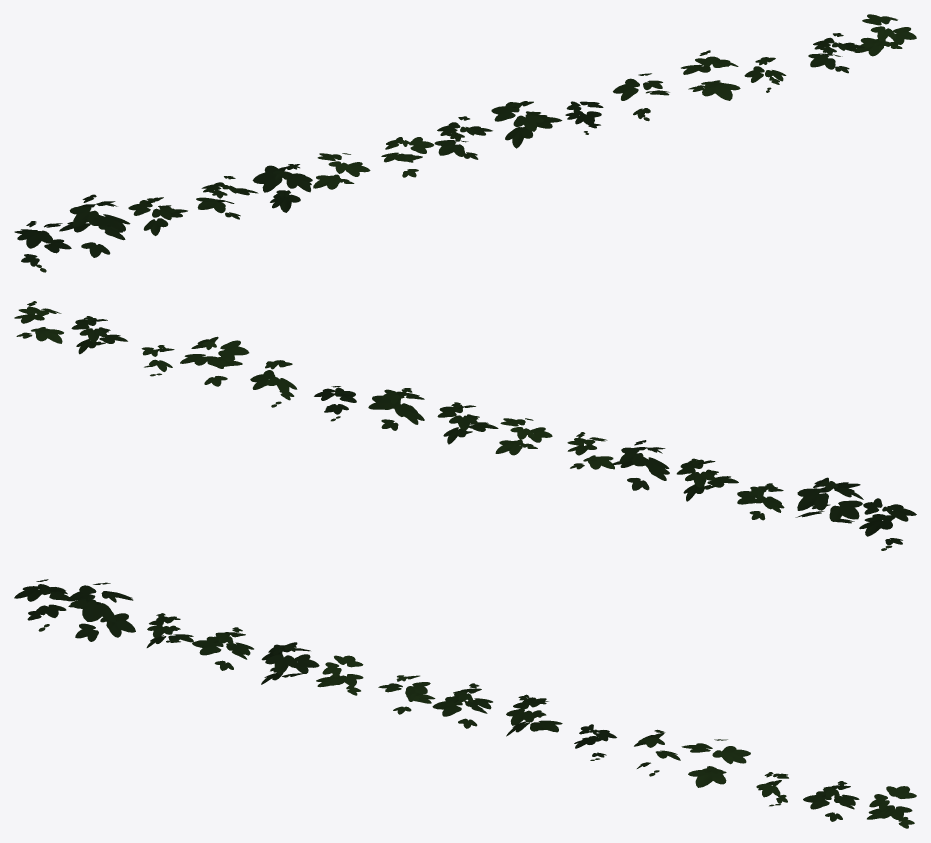
The model's file is ROW_20_SEG0_foliage.dae.
The picture shows the model from 3 angles, top to bottom: view 1: azimuth 30°, elevation 25°; view 2: azimuth 150°, elevation 25°; view 3: azimuth 330°, elevation 25°; orthographic projection.
Visible parts, largest first — view 1: ROW_20_SEG0_foliage; view 2: ROW_20_SEG0_foliage; view 3: ROW_20_SEG0_foliage.
Boxes of the visible parts, x1=… form: ROW_20_SEG0_foliage: x1=14, y1=14, x2=916, y2=272; ROW_20_SEG0_foliage: x1=14, y1=301, x2=916, y2=550; ROW_20_SEG0_foliage: x1=14, y1=579, x2=916, y2=828.
Bounding box in the file's own units: 4.47 × 0.3443 × 0.2768.
